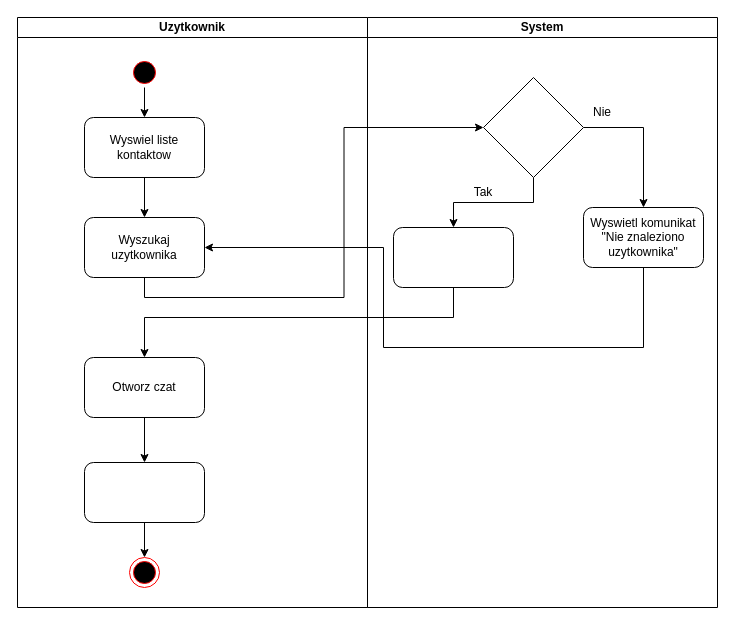
The diagram is 735 pixels wide and 625 high, and some of its shapes have lost their labels. Each missing label, with the centre of its shape:
"Czy taki użytkownik istnieje" belongs at pixel 533 127.
"Utworz nowy czat" belongs at pixel 453 257.
"Wyslij wiadomosc" belongs at pixel 144 492.
